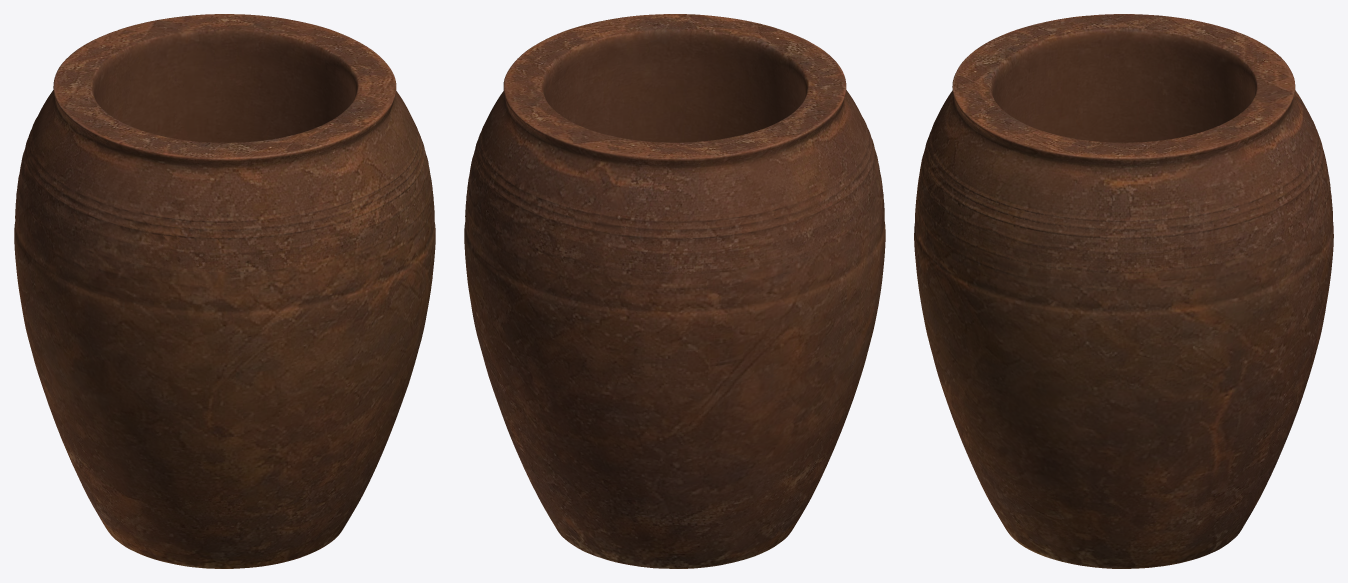
The model's file is jar_body_optimized.glb.
3 renders of one model, left to right at view 1: azimuth 30°, elevation 25°; view 2: azimuth 150°, elevation 25°; view 3: azimuth 270°, elevation 25°, orthographic.
Bounding box in the file's own units: 1.67 × 1.9 × 1.67.
1 material, 1 textured.
